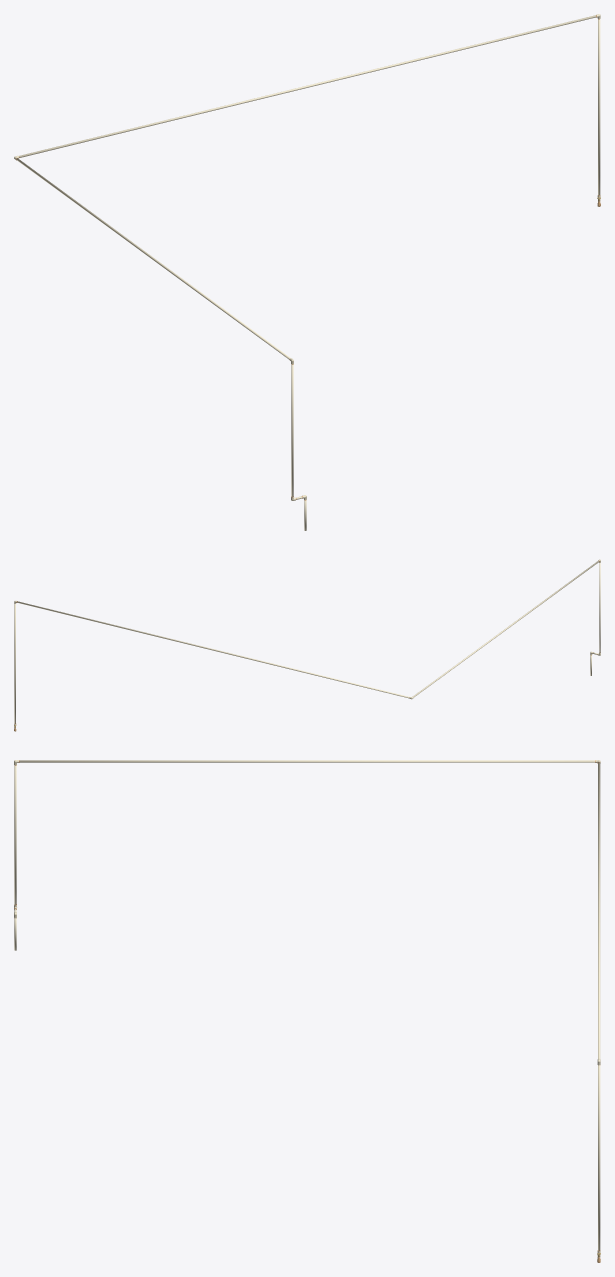
The model's file is pipes_supply__water-well_and_softener-yes_and_flowsmart-no_and_plumbing-cpvc.glb.
3 views of the same model, one above another, from view 1: azimuth 30°, elevation 25°; view 2: azimuth 150°, elevation 25°; view 3: azimuth 270°, elevation 25° (orthographic). The views are drawn at different scales.
Parts seen in each view (by area): view 1: pipe_supply_well_to_softener; view 2: pipe_supply_well_to_softener; view 3: pipe_supply_well_to_softener.
Boxes of the visible parts, left/top/right/bottom form: pipe_supply_well_to_softener: left=16, top=15, right=600, bottom=530; pipe_supply_well_to_softener: left=14, top=560, right=600, bottom=723; pipe_supply_well_to_softener: left=14, top=760, right=600, bottom=1250.
Bounding box in the file's own units: 6.45 × 2.02 × 5.31.
